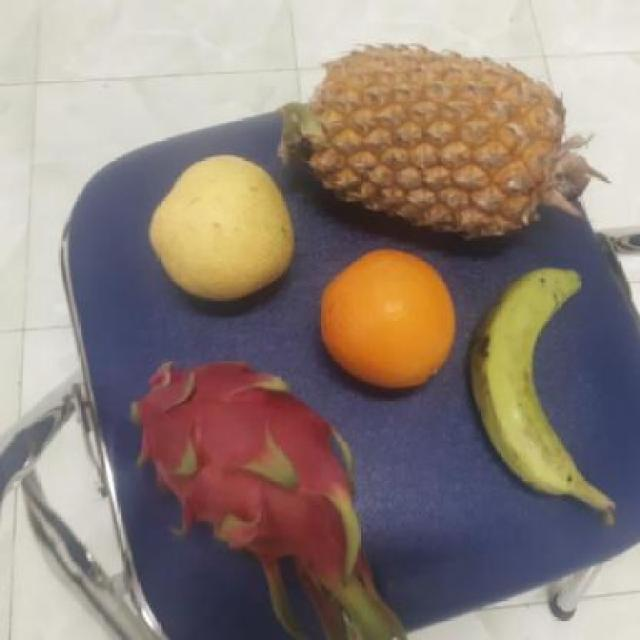banana: (469, 268, 596, 502)
dragon fruit: (123, 359, 374, 586)
guava: (145, 158, 293, 302), (314, 248, 458, 390)
pineapple: (295, 49, 570, 240)
